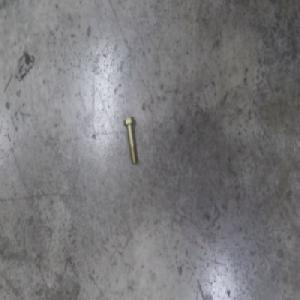Bolt: (123, 114, 137, 163)
